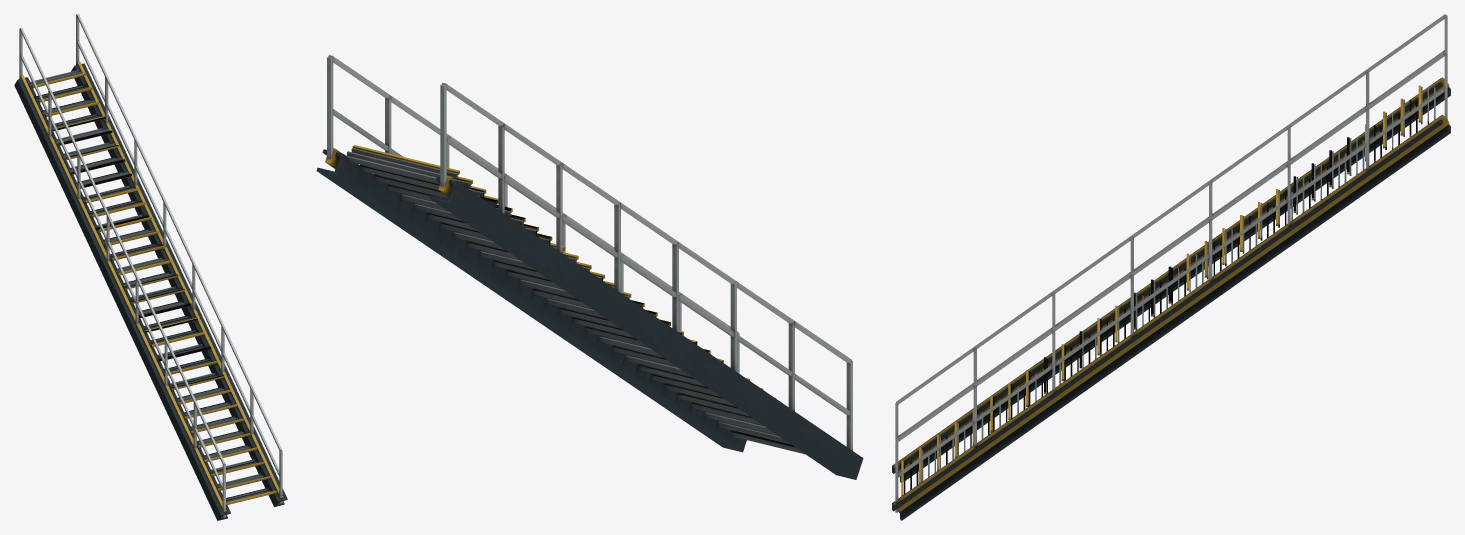
Rendered from wrap_stair_v4.glb.
3 renders of one model, left to right at view 1: azimuth 30°, elevation 25°; view 2: azimuth 150°, elevation 25°; view 3: azimuth 270°, elevation 25°, orthographic. The views are drawn at different scales.
Parts seen in each view (by area): view 1: body; view 2: body; view 3: body.
Part boxes in pixels (bbox=[...]): body: bbox=[14, 14, 287, 520]; body: bbox=[316, 55, 863, 479]; body: bbox=[892, 14, 1450, 520].
Bounding box in the file's own units: 1.46 × 7.2 × 7.84.
1 material, 1 textured.
